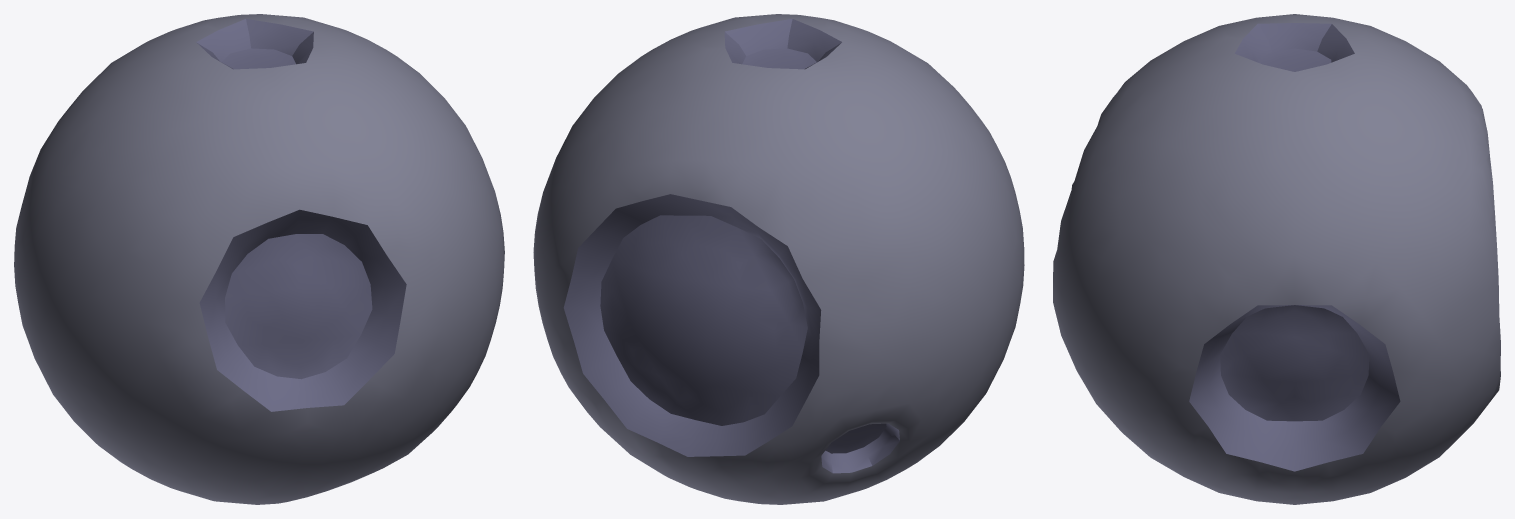
File: planet-moon.glb
The picture shows the model from 3 angles, left to right: view 1: azimuth 30°, elevation 25°; view 2: azimuth 150°, elevation 25°; view 3: azimuth 270°, elevation 25°; orthographic projection.
Parts seen in each view (by area): view 1: Planet_3; view 2: Planet_3; view 3: Planet_3.
Boxes of the visible parts, x1=… form: Planet_3: x1=14, y1=14, x2=504, y2=504; Planet_3: x1=533, y1=14, x2=1024, y2=504; Planet_3: x1=1053, y1=14, x2=1500, y2=504.
Size of the model in its own units: 3.66 by 3.68 by 3.41.
1 material, 1 textured.
